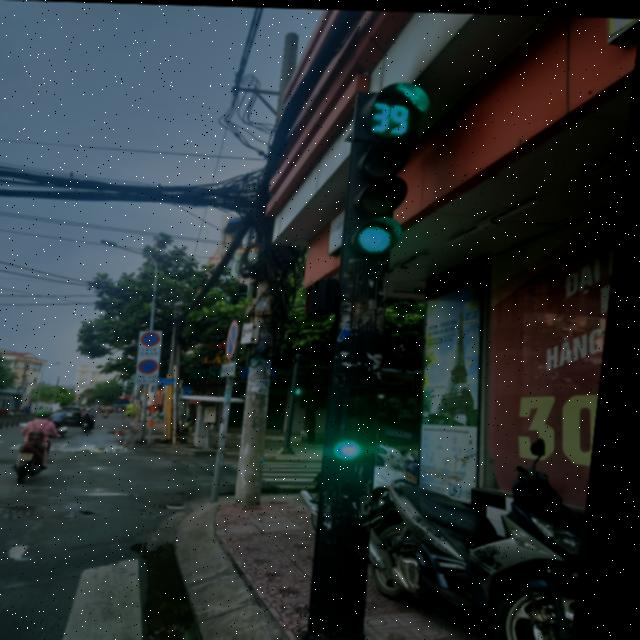Green: (345, 139, 418, 258), (332, 370, 396, 470)
